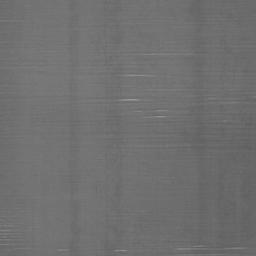Waist folding: (89, 52, 256, 151), (0, 226, 69, 253), (177, 245, 256, 256), (149, 142, 202, 147), (105, 134, 142, 139), (114, 248, 143, 254), (0, 19, 23, 23)
